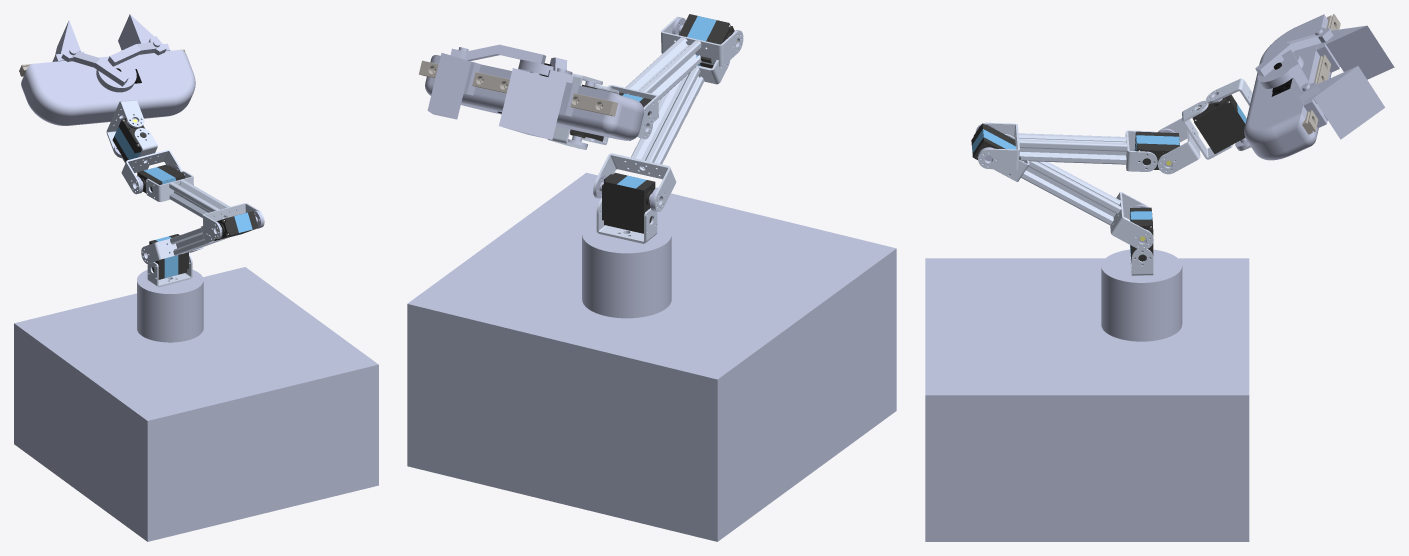
The model's file is robot_complet.glb.
The picture shows the model from 3 angles, left to right: view 1: azimuth 30°, elevation 25°; view 2: azimuth 150°, elevation 25°; view 3: azimuth 270°, elevation 25°; orthographic projection. The views are drawn at different scales.
Visible parts, largest first — view 1: Base_bras-1, BASE_PINCE-1, Base-1, 2020 aluminium profile small-2, demir1-3, Bielle-2, demir1-7, RSD3230 govde-7, demir1-5, RSD3230 govde-1, RSD3230 govde-5, Bielle-1 (+8 smaller); view 2: Base_bras-1, Base-1, BASE_PINCE-1, Mors-2, 2020 aluminium profile small-1, RSD3230 govde-1, 2020 aluminium profile small-2, Mors-1, demir1-1, Rail2-1, demir1-5, RSD3230 govde-5 (+2 smaller); view 3: Base_bras-1, Base-1, BASE_PINCE-1, 2020 aluminium profile small-2, Mors-1, 2020 aluminium profile small-1, Mors-2, RSD3230 govde-7, demir1-1, demir1-3, demir1-5, RSD3230 govde-3 (+10 smaller).
Part boxes in pixels (x1,y1,x2,y2): Base_bras-1: [14, 267, 378, 541]; BASE_PINCE-1: [21, 50, 195, 125]; Base-1: [137, 270, 203, 342]; 2020 aluminium profile small-2: [169, 179, 230, 218]; demir1-3: [121, 149, 182, 194]; Bielle-2: [61, 44, 128, 86]; demir1-7: [106, 100, 144, 158]; RSD3230 govde-7: [112, 118, 146, 162]; demir1-5: [202, 203, 264, 239]; RSD3230 govde-1: [149, 234, 188, 279]; RSD3230 govde-5: [214, 211, 258, 241]; Bielle-1: [108, 36, 166, 66]; Base_bras-1: [407, 172, 896, 541]; Base-1: [582, 220, 671, 318]; BASE_PINCE-1: [425, 55, 644, 140]; Mors-2: [499, 68, 566, 139]; 2020 aluminium profile small-1: [631, 67, 704, 168]; RSD3230 govde-1: [602, 172, 655, 233]; 2020 aluminium profile small-2: [625, 37, 701, 100]; Mors-1: [427, 53, 470, 119]; demir1-1: [593, 153, 676, 211]; Rail2-1: [419, 60, 618, 116]; demir1-5: [661, 16, 743, 66]; RSD3230 govde-5: [679, 14, 736, 68]; Base_bras-1: [925, 258, 1249, 541]; Base-1: [1101, 249, 1182, 341]; BASE_PINCE-1: [1244, 14, 1331, 160]; 2020 aluminium profile small-2: [1018, 133, 1126, 164]; Mors-1: [1313, 66, 1384, 139]; 2020 aluminium profile small-1: [1021, 161, 1121, 225]; Mors-2: [1326, 25, 1394, 79]; RSD3230 govde-7: [1192, 94, 1246, 153]; demir1-1: [1110, 191, 1153, 249]; demir1-3: [1157, 118, 1200, 174]; demir1-5: [977, 122, 1019, 169]; RSD3230 govde-3: [1134, 131, 1179, 169].
Size of the model in its own units: 0.3 by 0.4507 by 0.4348.
